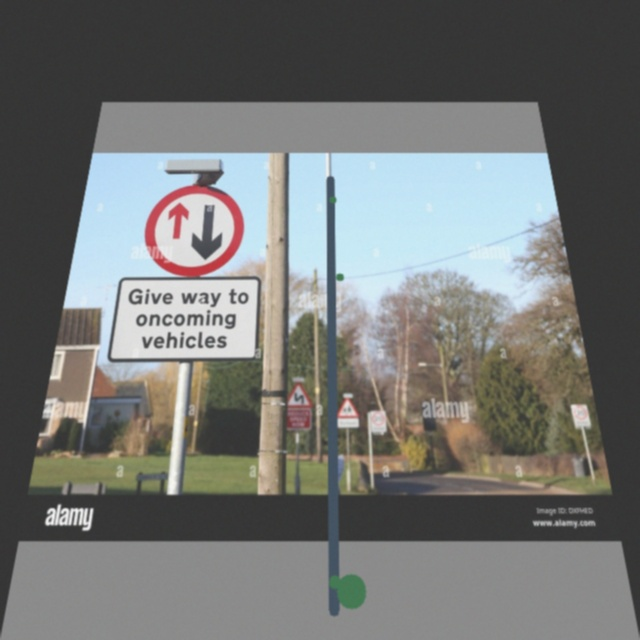Priority_for_Oncoming_Traffic: (138, 186, 246, 275)
